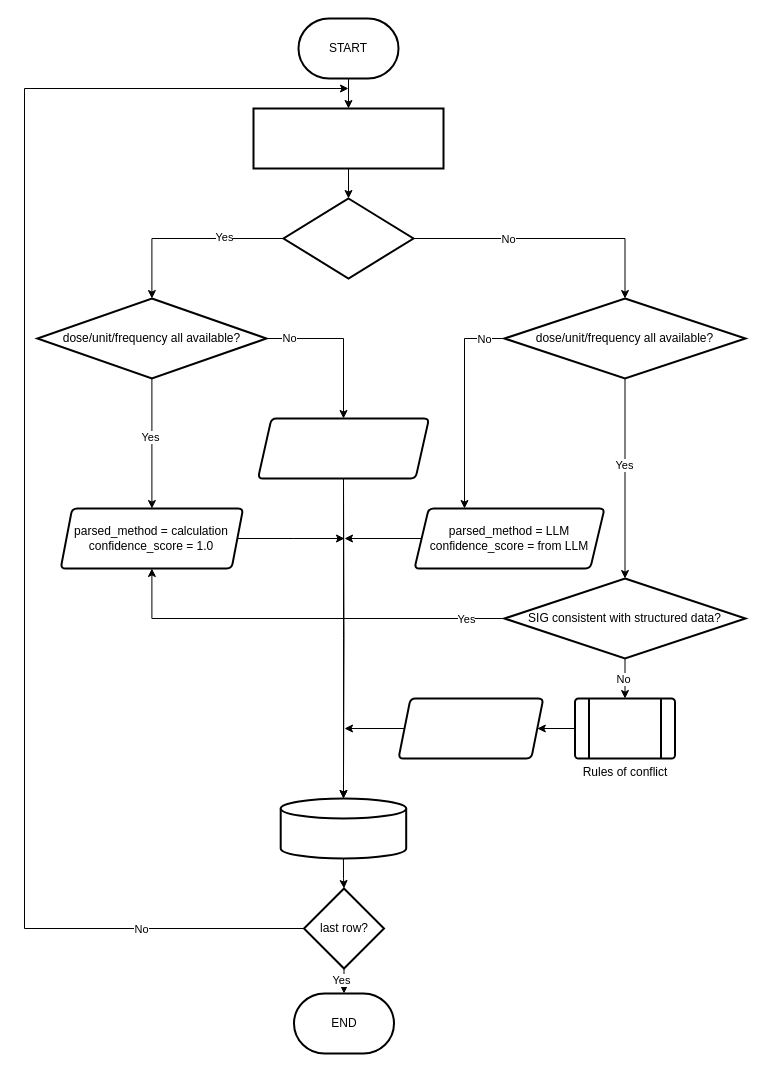
The diagram is 764 pixels wide and 1071 high, and some of its shapes have lost their labels. The centre of each missing label's shape, as x and y in pixels:
data from rule function: the point at 470,728
Invalid data parsed_dose = NULL confidence_score = NULL: the point at 343,448
Read a levothyroxine record: the point at 348,138
SIG is empty?: the point at 348,238
Write to data table: the point at 343,828
